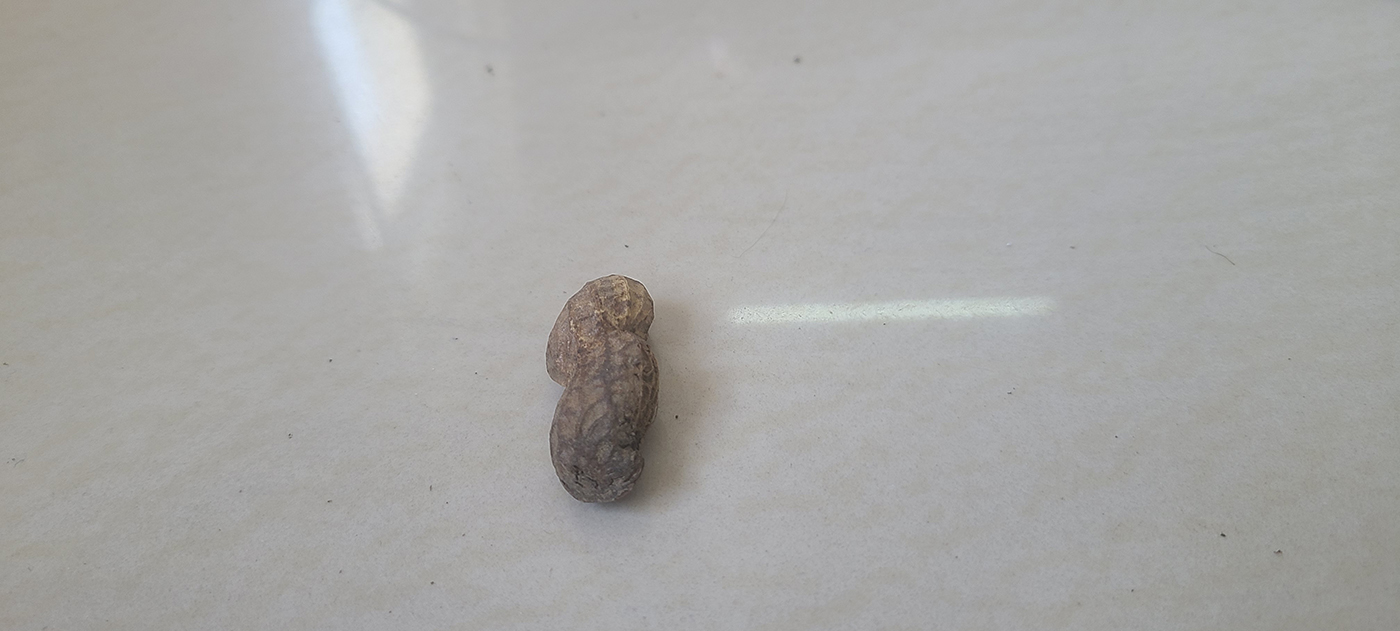l: (545, 271, 659, 505)
